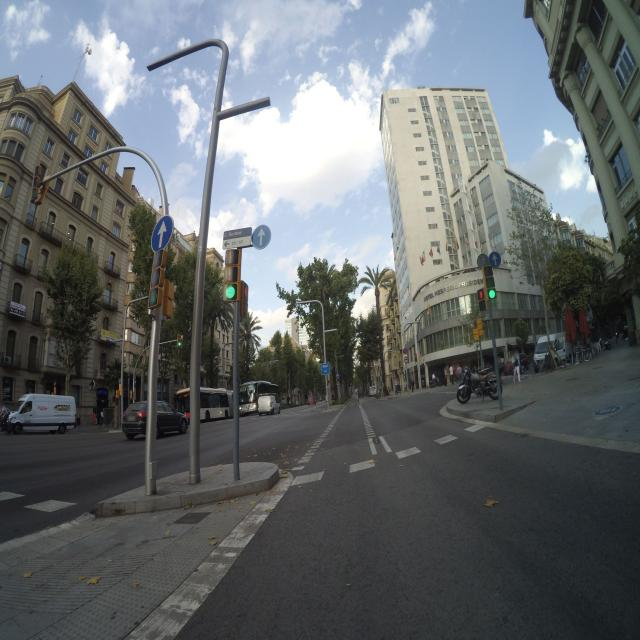forb_stopping: (403, 348, 408, 355)
